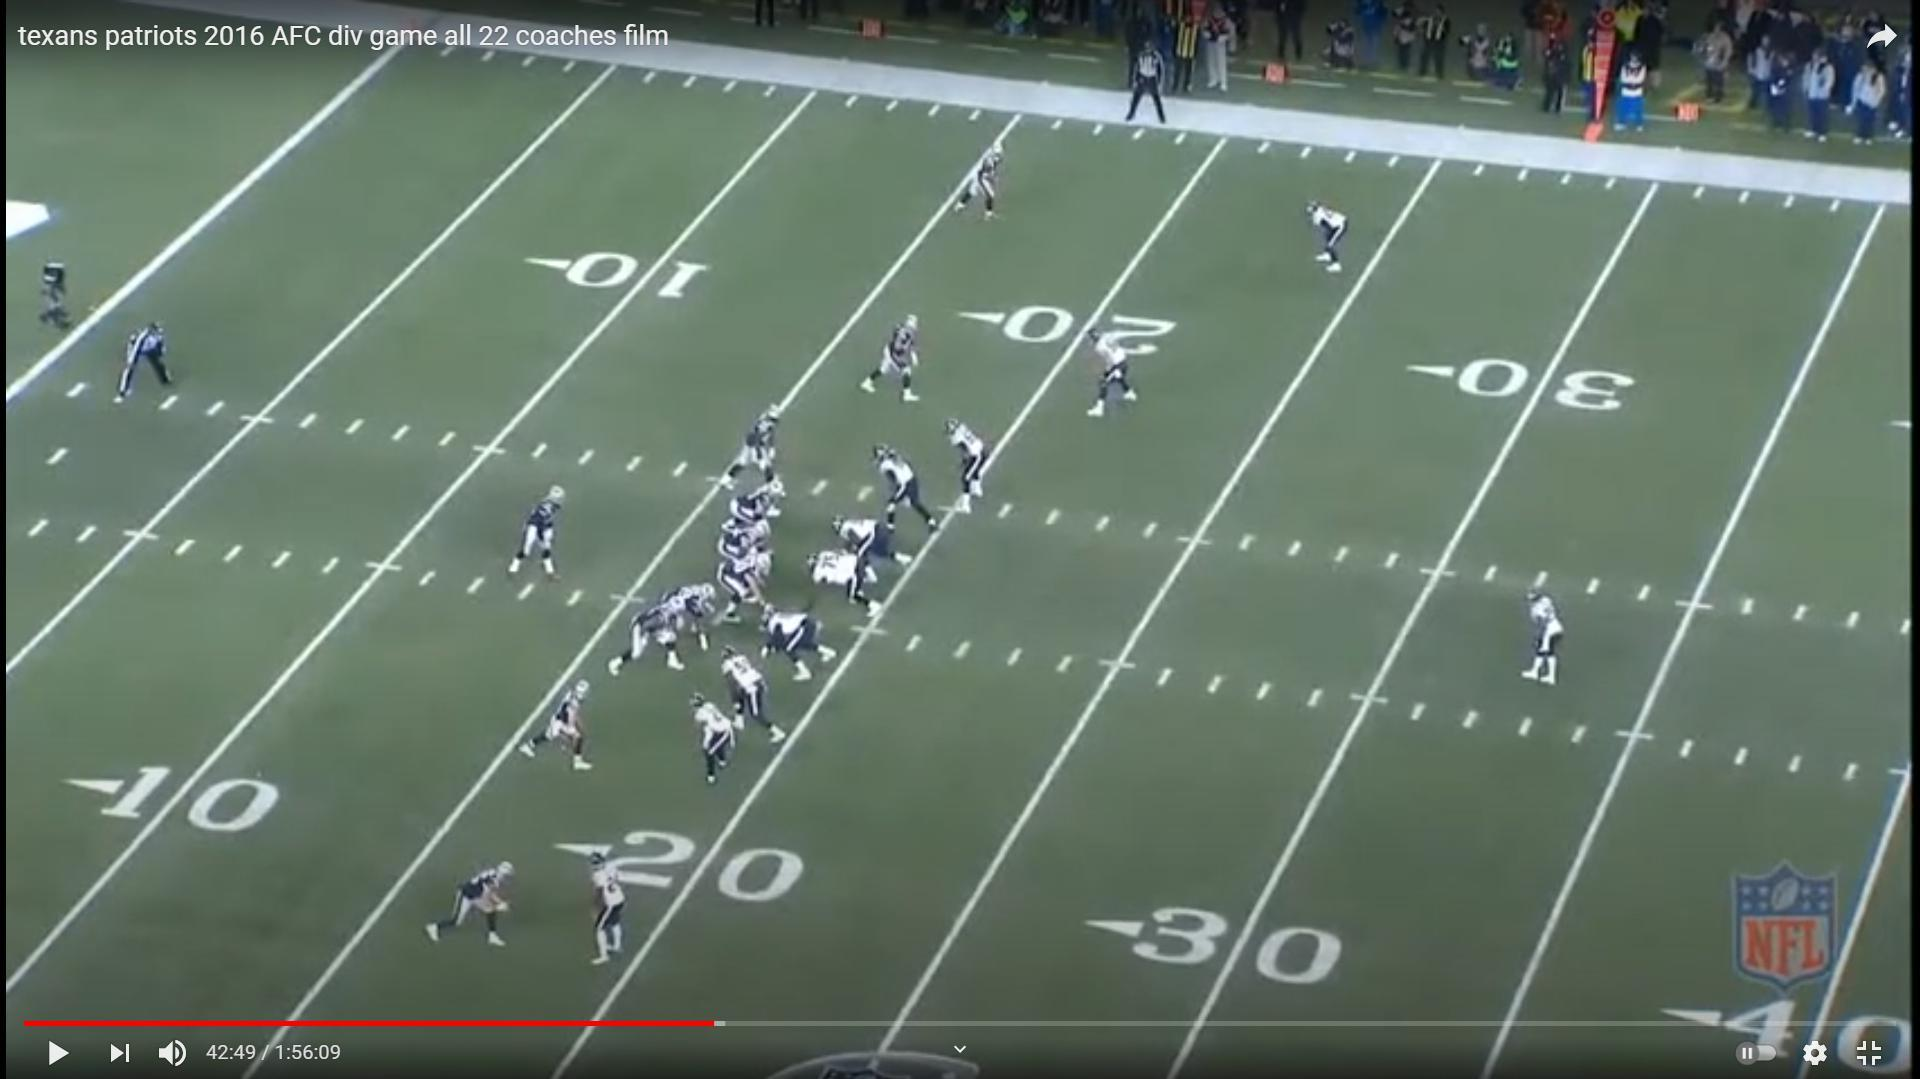player: (431, 858, 523, 952), (518, 669, 595, 776), (856, 310, 928, 407), (609, 595, 689, 678), (514, 478, 576, 585), (710, 653, 780, 747), (713, 405, 782, 500), (759, 606, 842, 684), (874, 443, 943, 534), (804, 546, 887, 621), (587, 854, 638, 970), (949, 141, 1012, 232), (833, 514, 915, 575), (1084, 327, 1136, 423), (1524, 582, 1569, 692), (719, 548, 779, 627), (944, 417, 993, 512), (657, 579, 718, 654), (693, 697, 738, 792), (1309, 195, 1356, 280), (719, 512, 772, 584), (729, 476, 787, 538)
ref: (115, 316, 175, 406), (1121, 39, 1174, 130)
